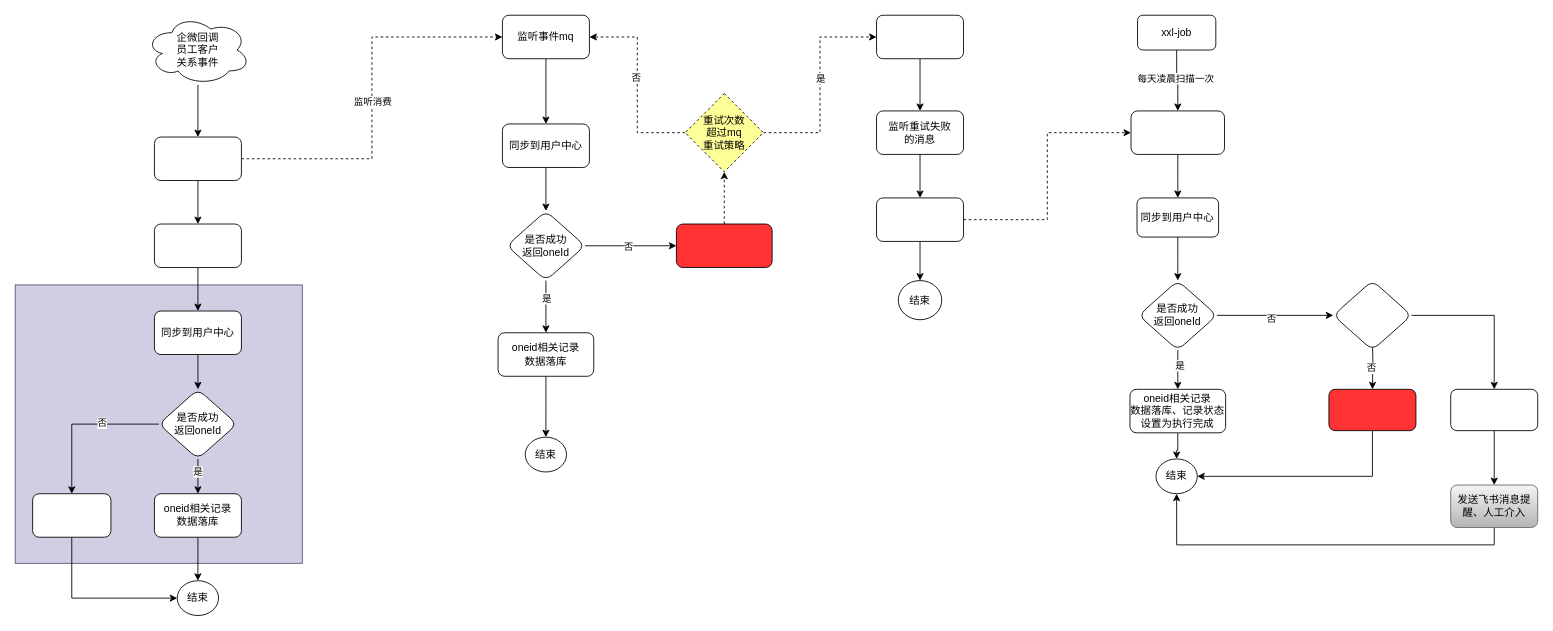
This 1553x631 diagram has some shape labels left out. Each missing label, with the centre of its shape:
"发送事件mq" goes at point 197,158.
"处理员工客户事件" goes at point 197,245.
"失败次数记录数+1" goes at point 1372,409.
"打印错误日志" goes at point 71,515.
"扫描失败的 所有记录" goes at point 1177,132.
"抛出异常、 等待mq下次重试" goes at point 724,245.
"是否超过 最大重试次数" goes at point 1372,315.
"消息进入 mq死信队列" goes at point 920,36.
"记录入库， 状态为待执行" goes at point 920,219.
"记录状态设置为执行失败" goes at point 1494,409.
